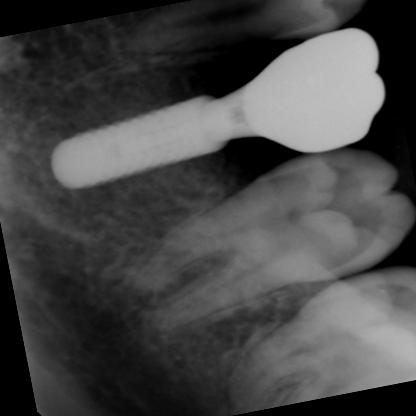ITI: (32, 96, 231, 193)
